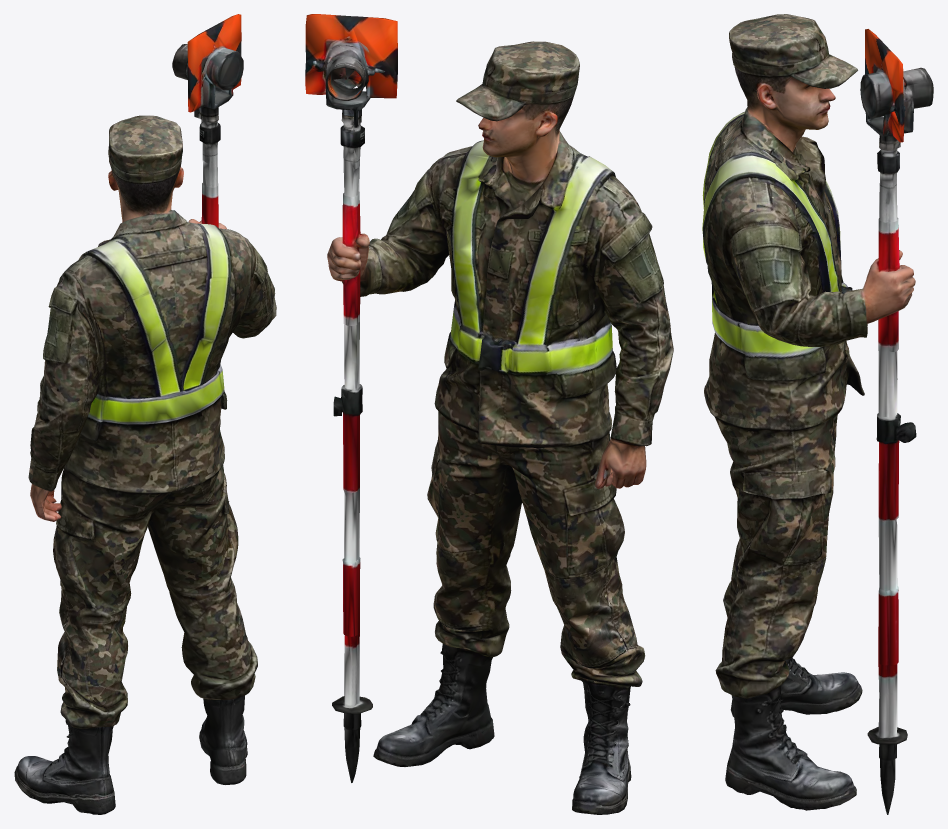
The model's file is auxiliar-prisma_lod0.glb.
The picture shows the model from 3 angles, left to right: view 1: azimuth 30°, elevation 25°; view 2: azimuth 150°, elevation 25°; view 3: azimuth 270°, elevation 25°; orthographic projection. The views are drawn at different scales.
Visible parts, largest first — view 1: tripo_node_cd82dda9-4523-46b3-97b5-06d898210c89; view 2: tripo_node_cd82dda9-4523-46b3-97b5-06d898210c89; view 3: tripo_node_cd82dda9-4523-46b3-97b5-06d898210c89.
Boxes of the visible parts, x1,y1,x2,y2 form: tripo_node_cd82dda9-4523-46b3-97b5-06d898210c89: [14, 14, 276, 814]; tripo_node_cd82dda9-4523-46b3-97b5-06d898210c89: [305, 14, 673, 814]; tripo_node_cd82dda9-4523-46b3-97b5-06d898210c89: [702, 14, 933, 814].
Bounding box in the file's own units: 0.748 × 1.86 × 0.5059.
1 material, 1 textured.
